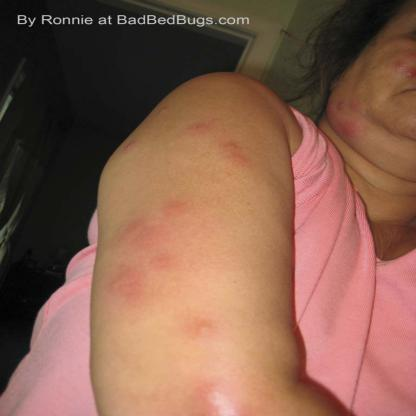Bed Bug: (109, 197, 200, 266), (188, 381, 258, 416), (324, 97, 372, 143), (106, 266, 149, 315), (180, 308, 232, 344), (219, 139, 257, 167), (390, 46, 416, 82), (184, 118, 213, 142), (121, 139, 144, 156), (154, 104, 175, 117)
